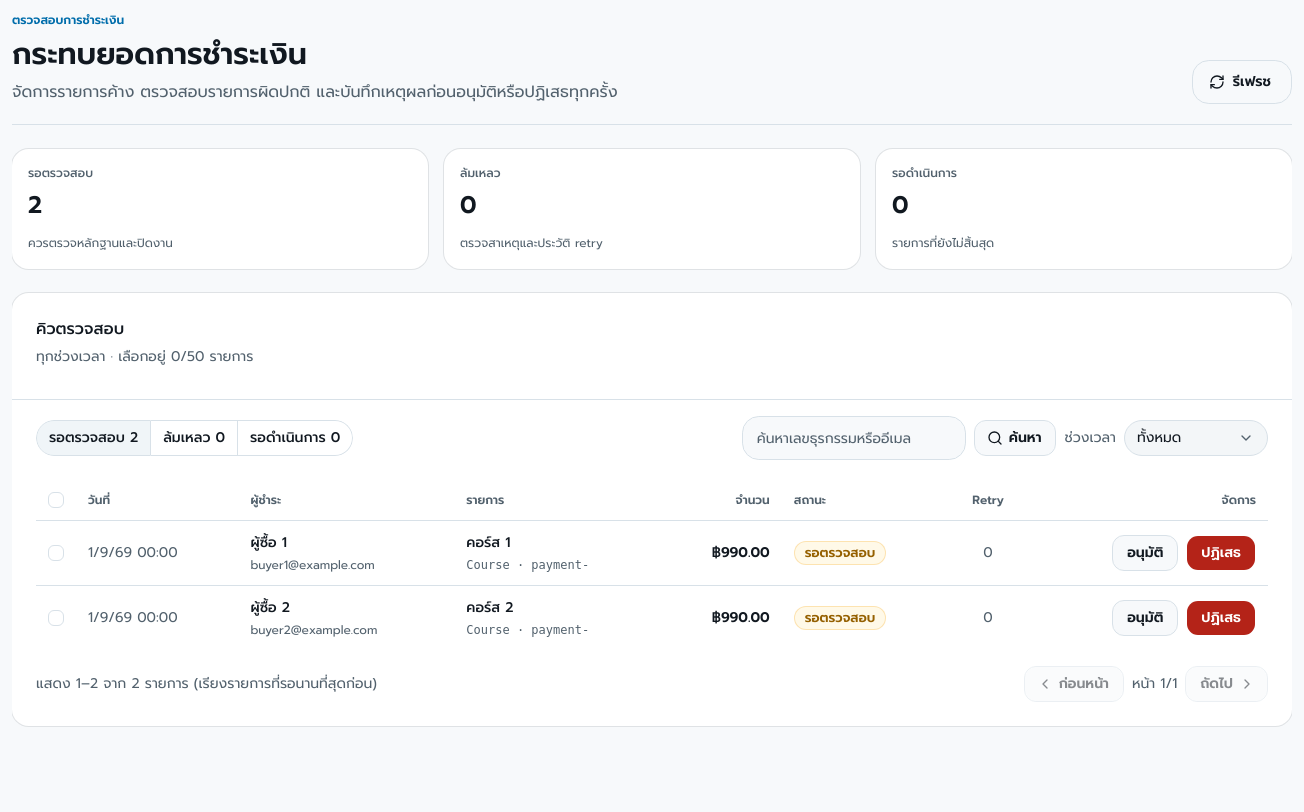
Test: Admin reconciliation queue states › drops rows from the previous filter when the new filter fails to load
expect the text "คอร์ส 1" is shown: met, box x1=466 y1=532 x2=511 y2=552
Step 1. Click the radio button labelled "ล้มเหลว 0" → x=195, y=438, box x1=151 y1=420 x2=238 y2=456
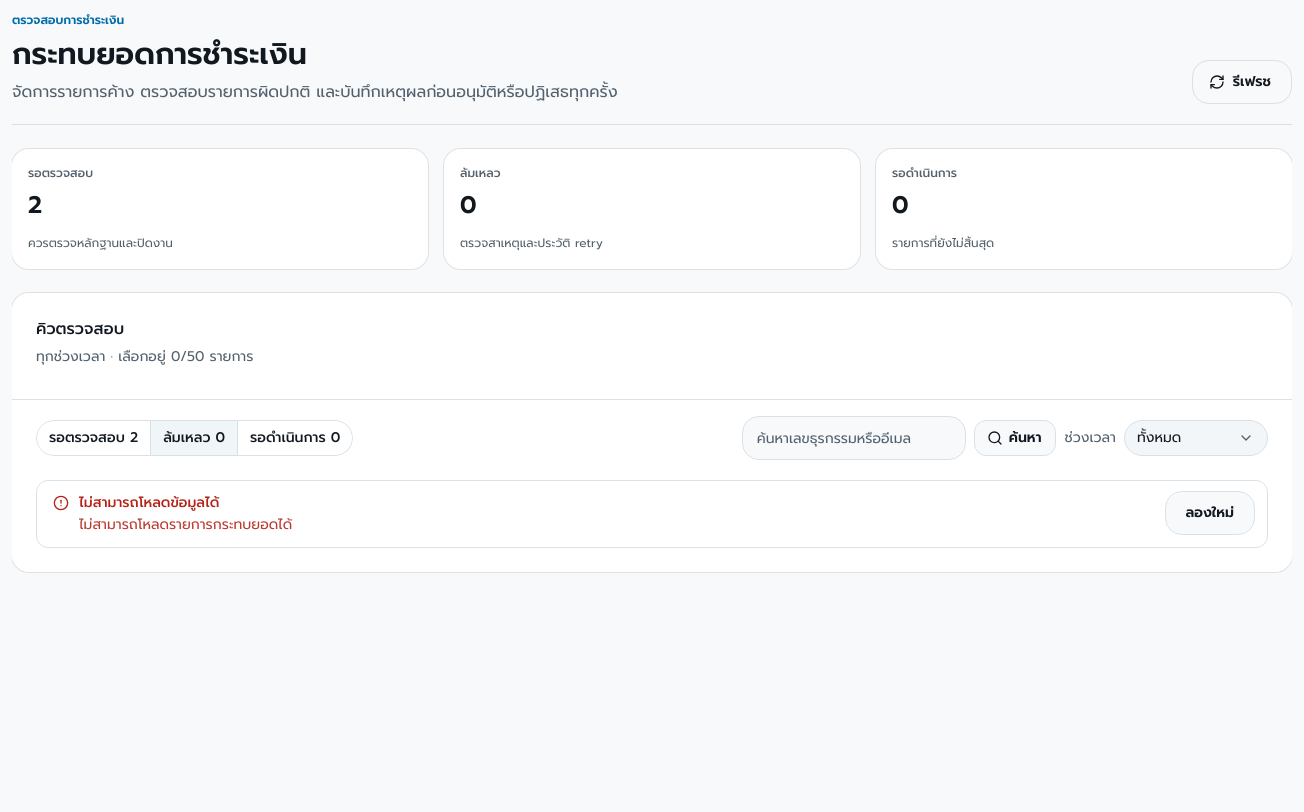
expect the text "ไม่สามารถโหลดรายการกระทบยอดได้" is shown: met, box x1=79 y1=514 x2=292 y2=535
expect the text "คอร์ส 1" is gone: met
